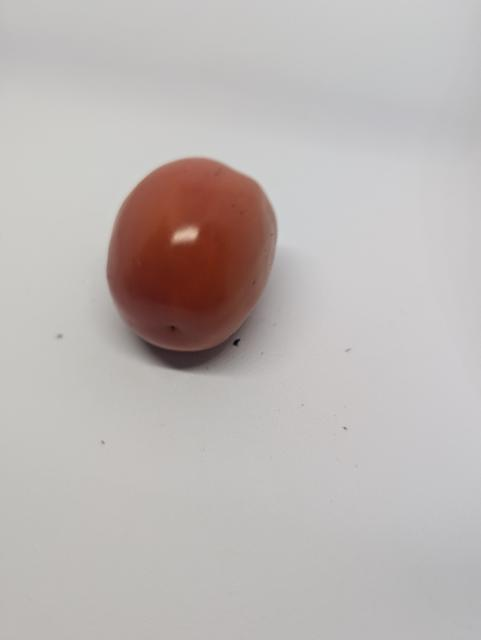red: (87, 152, 304, 373)
